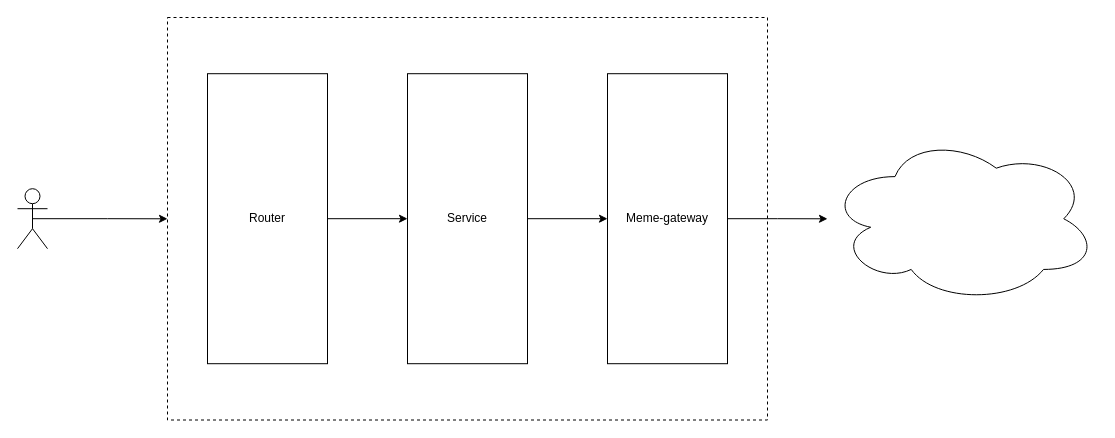
This 1115x438 diagram has some shape labels left out. The box of each missing label's shape, as (x1, y1, x2, y2) in pixels:
Actor: (16, 188, 48, 249)
meme providers: (826, 133, 1098, 303)
